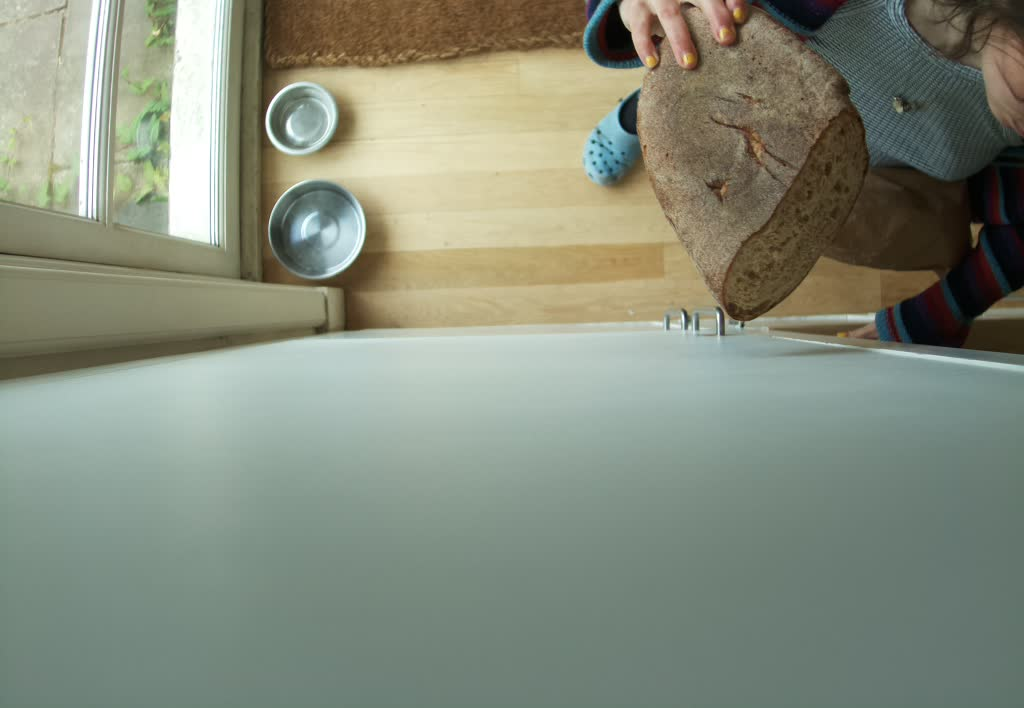bread: (638, 1, 873, 322)
